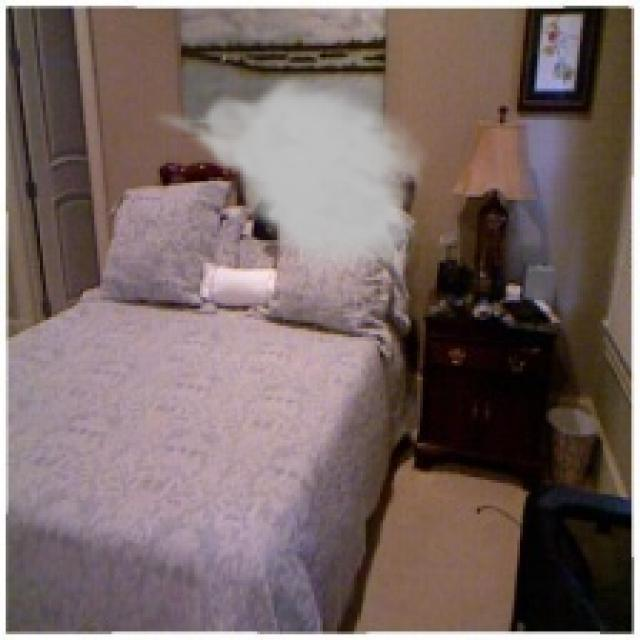Smoke: (148, 68, 428, 286)
